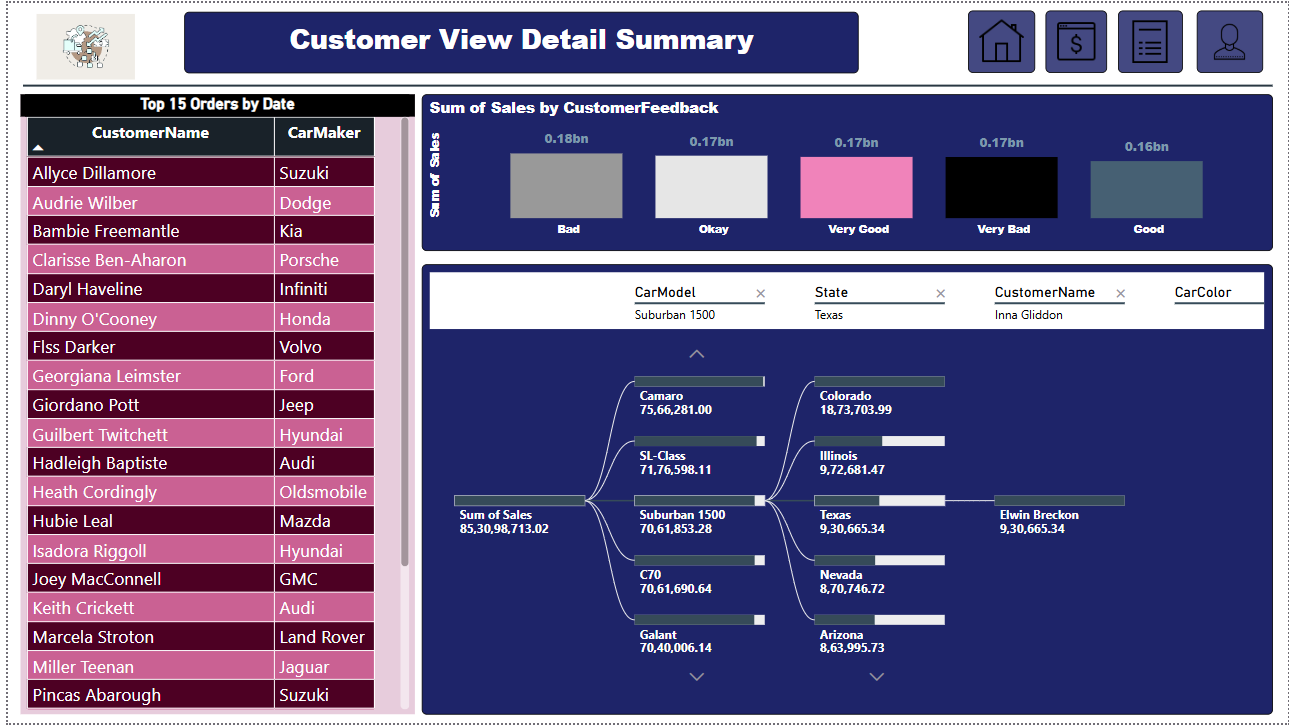

The page's visual inventory and layout, read from the dashboard file:
{"tool":"powerbi","page":{"name":"Customer View","canvas":[1280,720],"ordinal":3},"visuals":[{"type":"tableEx","title":"Top 15 Orders by Date","fields":{"Values":["cars_data.CustomerName","cars_data.CarMaker"]},"box":[12.6,91.6,394.1,620],"z":0},{"type":"columnChart","fields":{"Y":["Sum(cars_data.Sales)"],"Category":["cars_data.CustomerFeedback"]},"box":[414.2,91.6,851,156.9],"z":1000},{"type":"textbox","box":[176.1,8.4,674.4,61.5],"z":2000},{"type":"shape","box":[14.5,68.8,1249.9,27.7],"z":3000},{"type":"decompositionTreeVisual","fields":{"Analyze":["Sum(cars_data.Sales)"],"ExplainBy":["cars_data.CarModel","cars_data.State","cars_data.CustomerName","cars_data.CarColor","cars_data.ShipMode"]},"box":[414.2,261.1,851,450.6],"z":4000},{"type":"image","box":[24.1,3.6,108.6,79.6],"z":5000},{"type":"image","box":[1038,8,61.5,62.7],"z":6000},{"type":"image","box":[959.6,8,67.6,62.7],"z":7000},{"type":"image","box":[1110.4,8,65.1,62.7],"z":8000},{"type":"image","box":[1188.8,8,66.4,62.7],"z":9000}]}

Visuals, with their boxes in screenshot pixels (x1, y1, x2, y2), scaled from the page's 1280x720 canvas onto the 1289x726 screenshot:
"Top 15 Orders by Date" tableEx: 13, 92, 410, 718
columnChart - Sum(cars_data.Sales) x cars_data.CustomerFeedback: 417, 92, 1274, 251
textbox: 177, 8, 856, 70
shape: 15, 69, 1273, 97
decompositionTreeVisual - Sum(cars_data.Sales) x cars_data.CarModel: 417, 263, 1274, 718
image: 24, 4, 134, 84
image: 1045, 8, 1107, 71
image: 966, 8, 1034, 71
image: 1118, 8, 1184, 71
image: 1197, 8, 1264, 71
